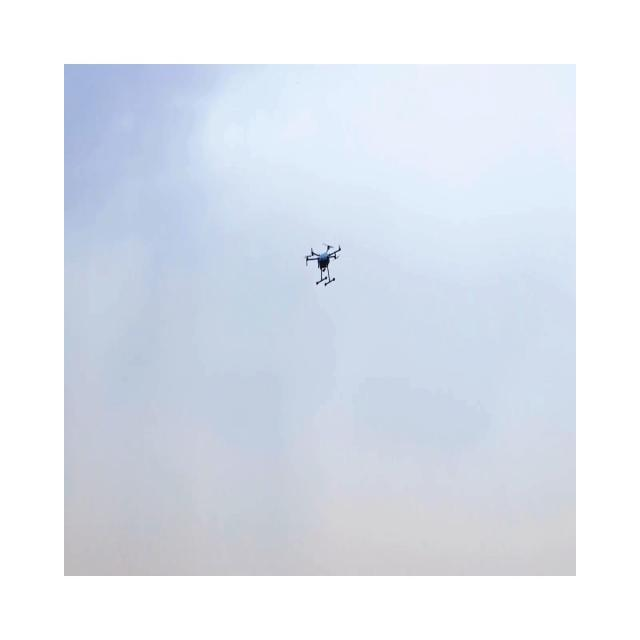drone: (304, 242, 342, 286)
